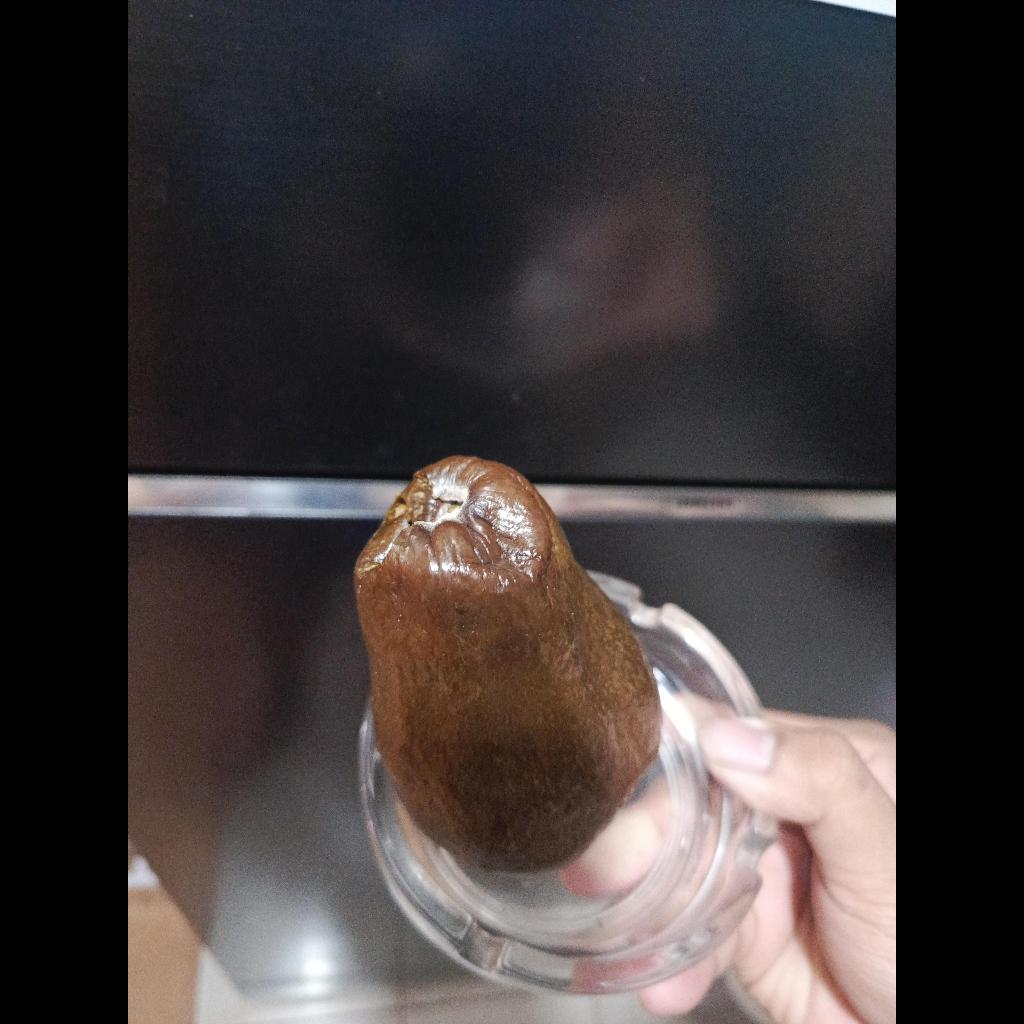pudricion_peduncular: (355, 456, 661, 871)
